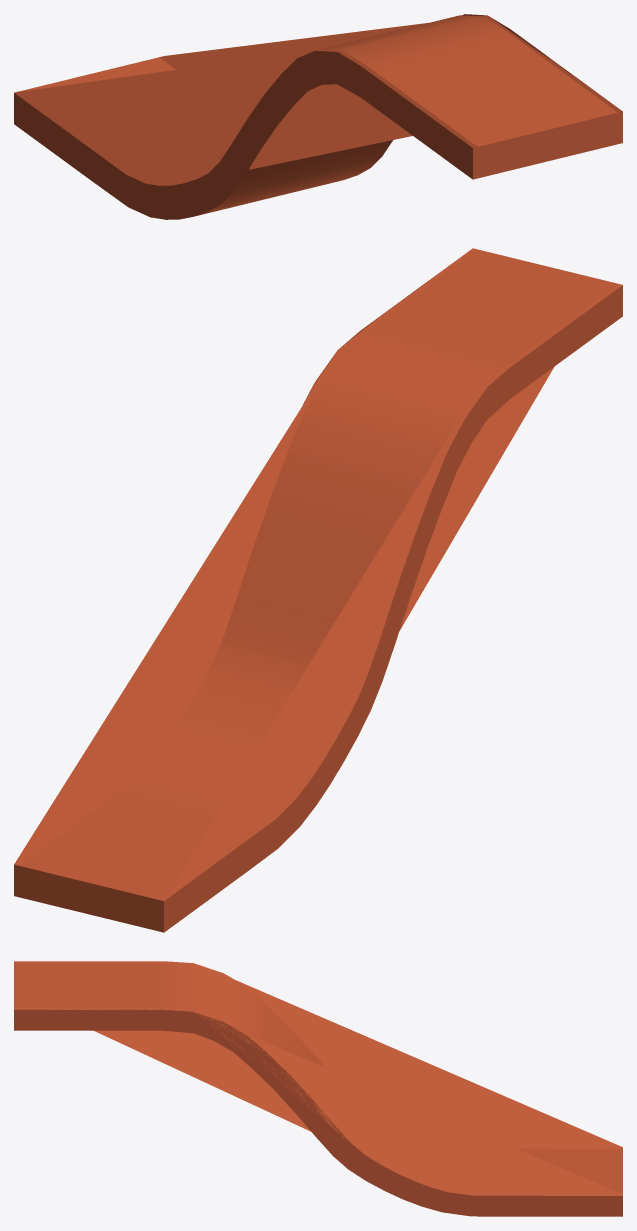
The model's file is Car_Track_down.fbx.
The picture shows the model from 3 angles, top to bottom: view 1: azimuth 30°, elevation 25°; view 2: azimuth 150°, elevation 25°; view 3: azimuth 270°, elevation 25°; orthographic projection. The views are drawn at different scales.
Parts seen in each view (by area): view 1: Car_Track_Down:pCube1; view 2: Car_Track_Down:pCube1; view 3: Car_Track_Down:pCube1.
Boxes of the visible parts, box(x1,y1,x2,y2) form: Car_Track_Down:pCube1: box(14, 14, 622, 219); Car_Track_Down:pCube1: box(14, 248, 622, 932); Car_Track_Down:pCube1: box(14, 961, 622, 1216).
Size of the model in its own units: 1 by 1.99 by 5.29.
